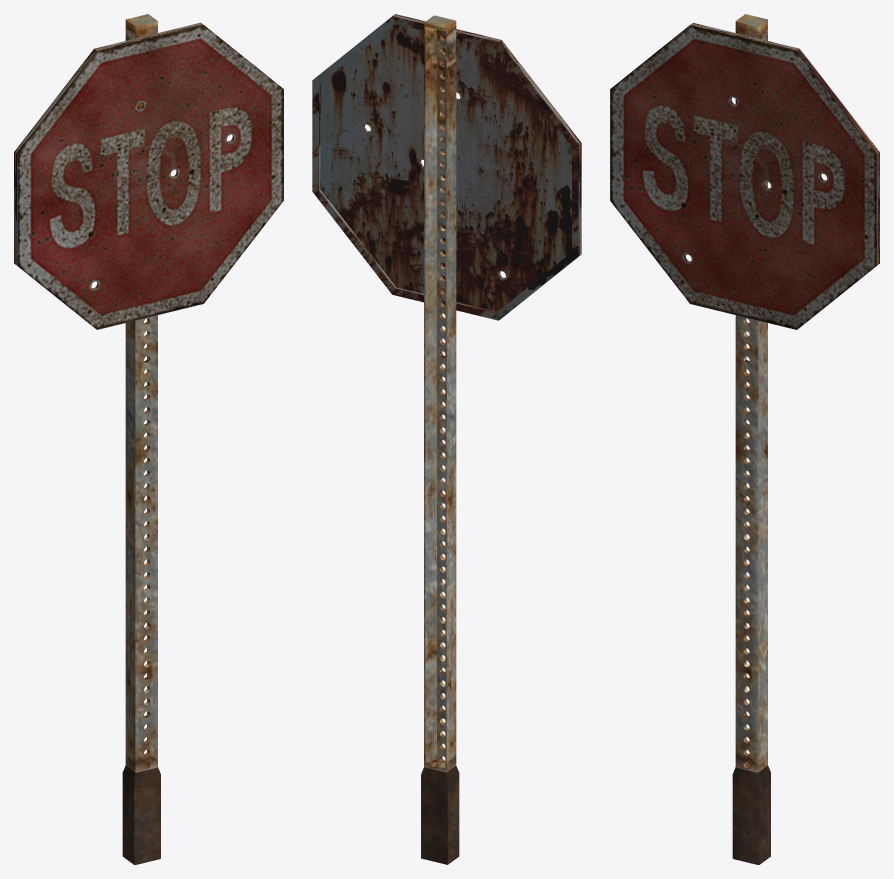
The model's file is stop.glb.
3 views of the same model, side by side, from view 1: azimuth 30°, elevation 25°; view 2: azimuth 150°, elevation 25°; view 3: azimuth 330°, elevation 25° (orthographic).
Parts seen in each view (by area): view 1: Stop Sign; view 2: Stop Sign; view 3: Stop Sign.
Boxes of the visible parts, bbox=[...] form: Stop Sign: bbox=[14, 14, 283, 864]; Stop Sign: bbox=[312, 14, 581, 864]; Stop Sign: bbox=[610, 14, 879, 864].
Bounding box in the file's own units: 2.54 × 7.62 × 0.2374.
Materials: 5 (5 with a texture image).
